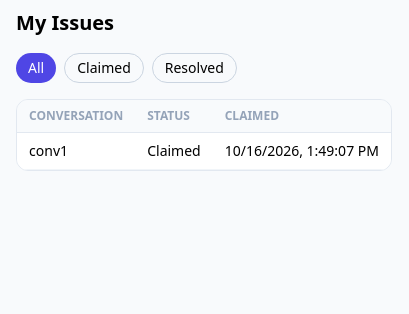
MyIssuesPage › opening an issue card shows its cached Markdown
Expected: the text "Detail" is not shown
What coordinates should you click on to do the following:
click the button "conv1"
I would click on:
 (48, 151)
Its box is x1=29 y1=141 x2=68 y2=161.
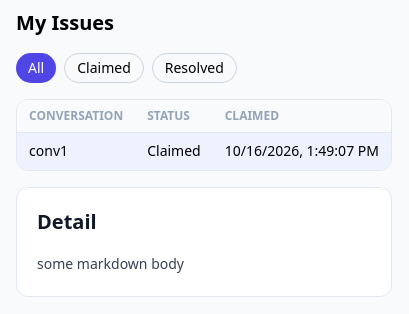
Expected: the heading "Detail" is shown, x1=37 y1=208 x2=97 y2=235
